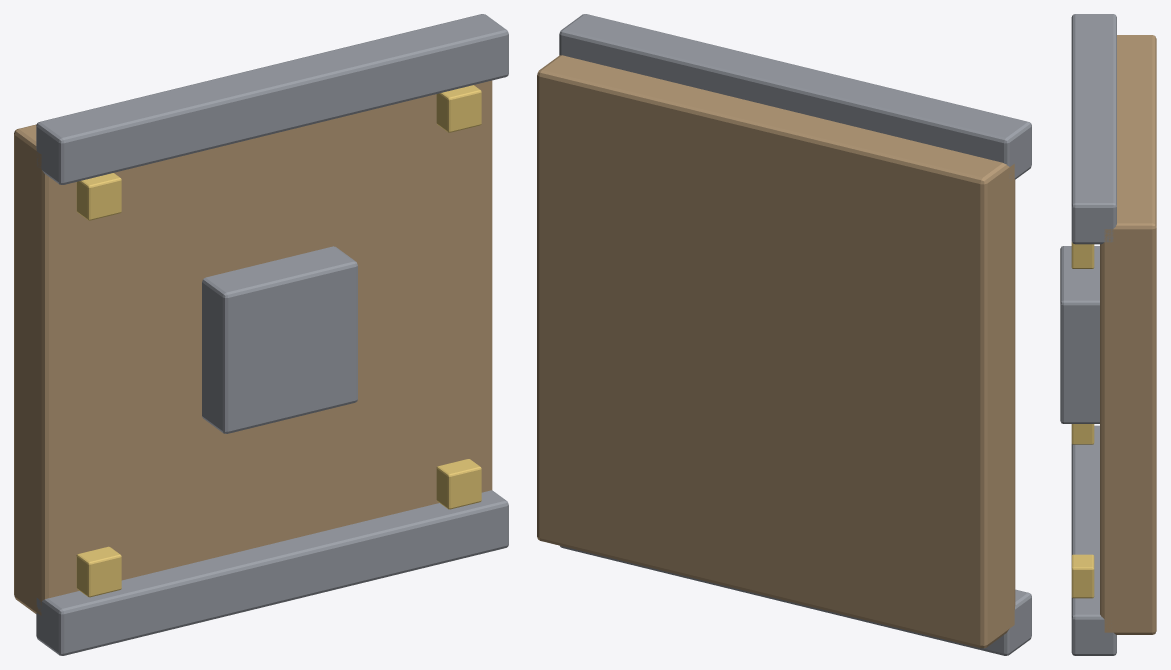
File: shield_wooden.glb
3 views of the same model, side by side, from view 1: azimuth 30°, elevation 25°; view 2: azimuth 150°, elevation 25°; view 3: azimuth 270°, elevation 25° (orthographic). The views are drawn at different scales.
Visible parts, largest first — view 1: Disk, Rim_top, Rim_bot, Boss, Rivet_2, Rivet_3, Rivet_0, Rivet_1; view 2: Disk, Rim_top, Rim_bot; view 3: Disk, Rim_top, Boss, Rim_bot, Rivet_3, Rivet_1, Rivet_2.
Part boxes in pixels (x1,y1,x2,y2): Disk: (14, 80, 492, 615); Rim_top: (36, 14, 508, 184); Rim_bot: (36, 490, 508, 655); Boss: (202, 246, 357, 433); Rivet_2: (76, 546, 121, 597); Rivet_3: (436, 459, 481, 509); Rivet_0: (76, 173, 121, 220); Rivet_1: (436, 85, 481, 132); Disk: (537, 55, 1015, 648); Rim_top: (559, 14, 1031, 179); Rim_bot: (560, 545, 1031, 655); Disk: (1100, 35, 1156, 634); Rim_top: (1071, 14, 1116, 244); Boss: (1060, 246, 1099, 423); Rim_bot: (1071, 425, 1116, 655); Rivet_3: (1071, 554, 1094, 598); Rivet_1: (1071, 241, 1094, 268); Rivet_2: (1071, 424, 1094, 444).
Size of the model in its own units: 0.4 by 0.44 by 0.085.
